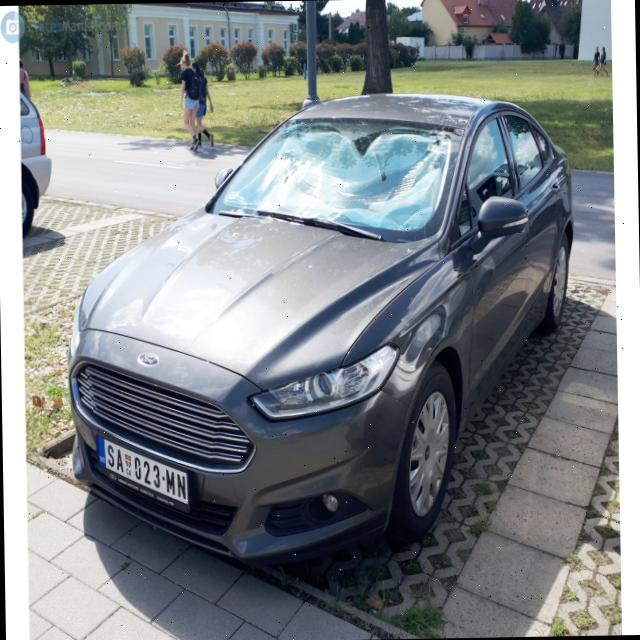License-plate: (96, 429, 189, 516)
